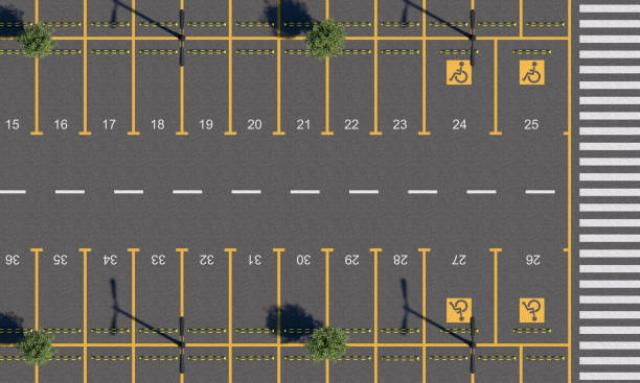Empty: (497, 38, 571, 132), (425, 250, 497, 344), (500, 254, 570, 346), (430, 38, 494, 134), (375, 40, 429, 136), (36, 38, 86, 136), (230, 39, 280, 137), (230, 250, 280, 346), (329, 37, 377, 135), (86, 249, 134, 347), (133, 40, 183, 134), (328, 251, 378, 345), (280, 40, 328, 137), (86, 40, 134, 136), (135, 252, 183, 348), (182, 252, 230, 346), (185, 39, 231, 133), (40, 252, 86, 346), (280, 255, 328, 341), (380, 251, 422, 343)
